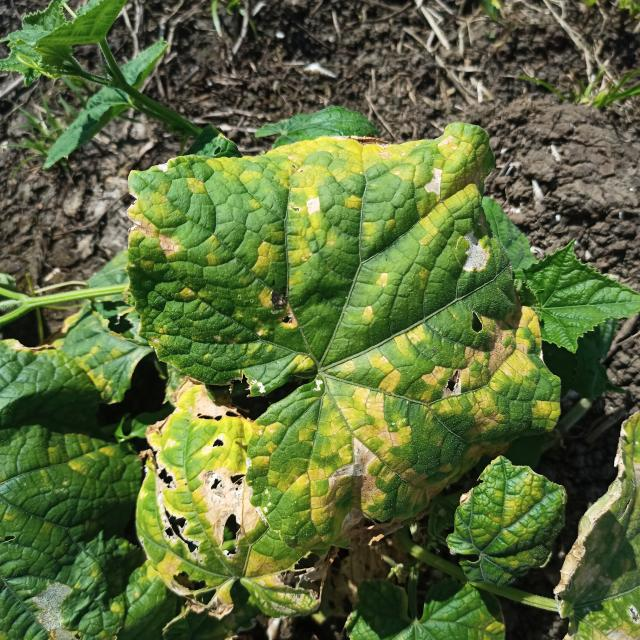disease_cucumber: (128, 119, 543, 602)
